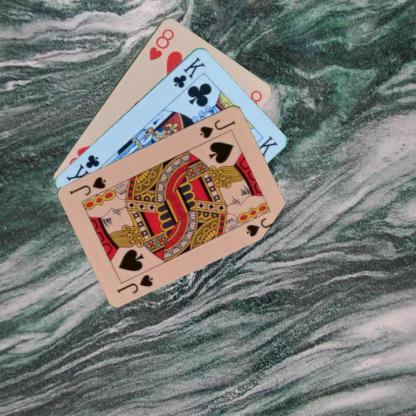8h: (146, 25, 176, 62)
Js: (114, 271, 155, 295), (197, 116, 237, 139)
Kc: (170, 54, 207, 89)
